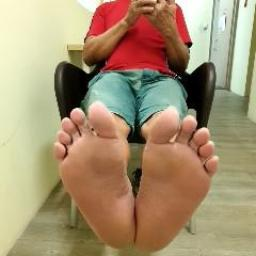Plantar View -Both Feet-: (38, 92, 228, 255)
